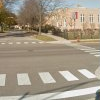crosswalk: (0, 68, 97, 86), (68, 44, 100, 58), (0, 40, 43, 45)
